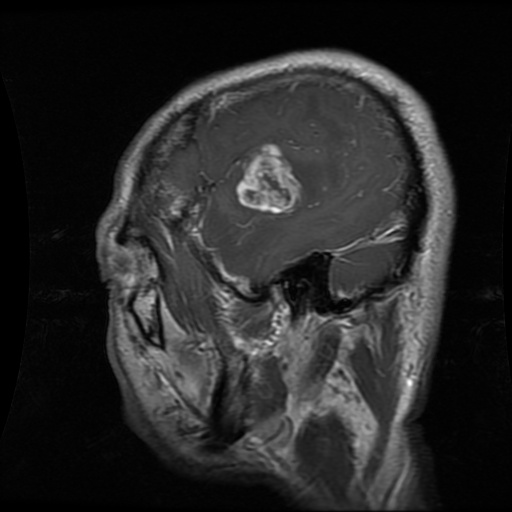glioma: (238, 143, 301, 211)
